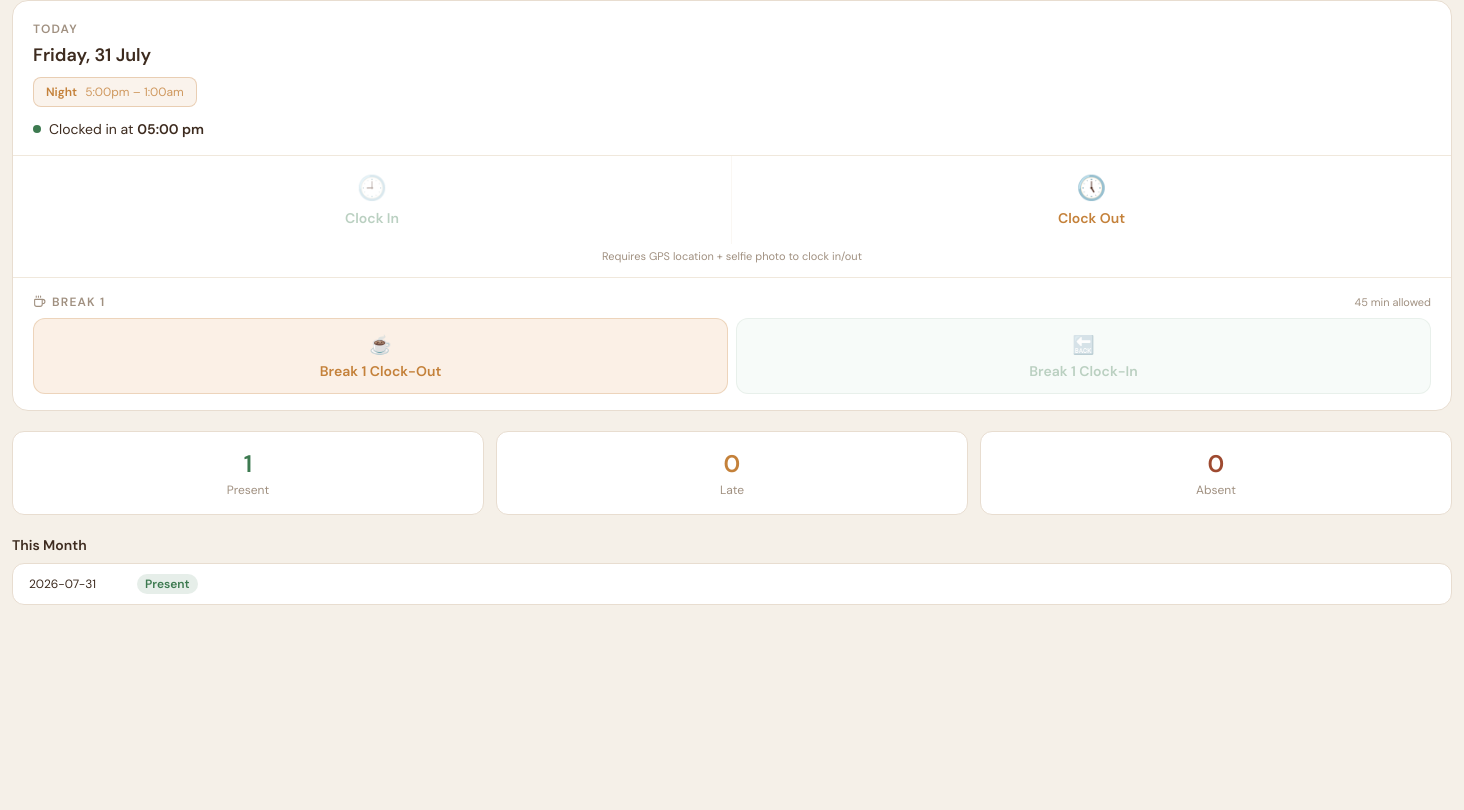
Scenario: a write that does not land is reported, not swallowed › reports success — and shows no alert — when the write does land
Click the button "☕ Break 1 Clock-Out" at [380, 356], box [33,318,728,394]
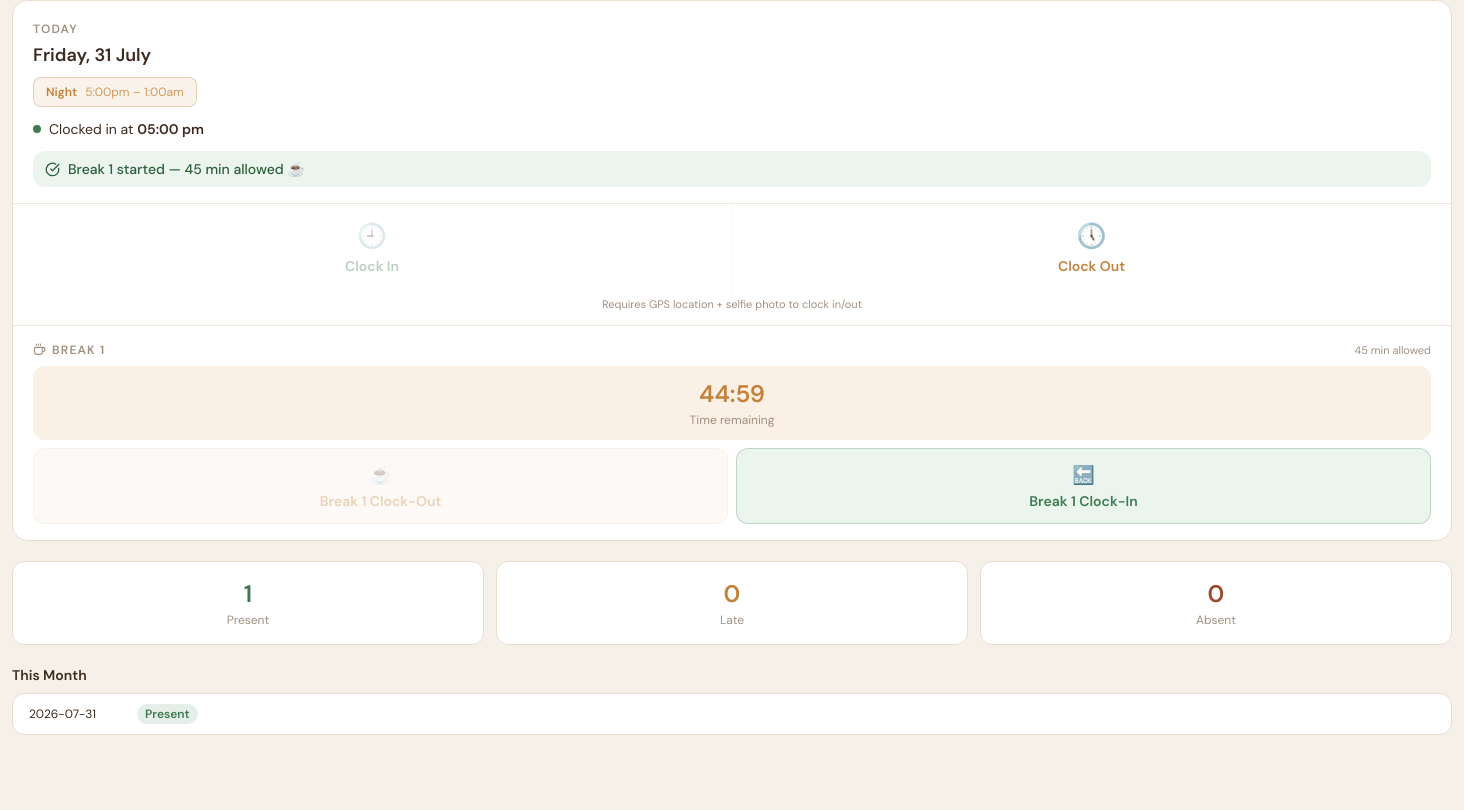
Expected: the text "Break 1 started — 45 min allowed ☕" is shown, [33,151,1431,187]
